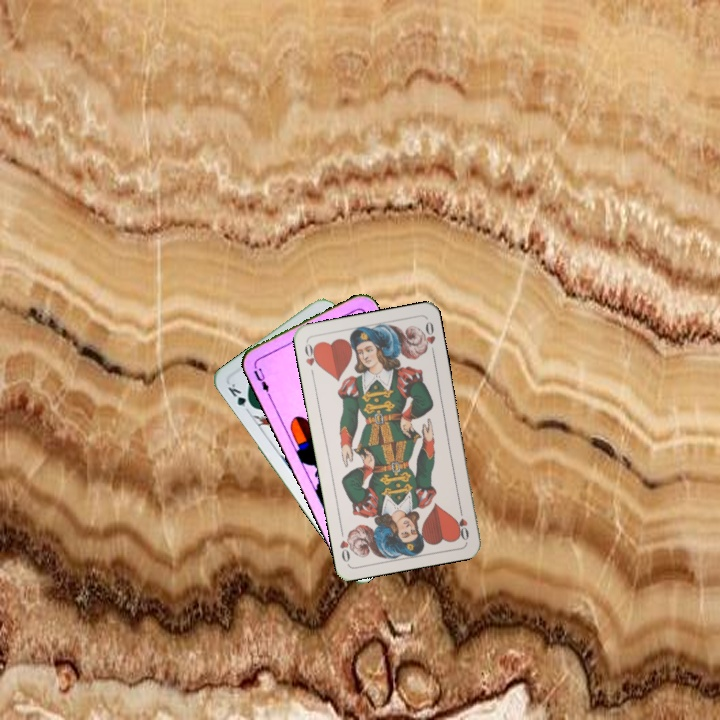EU: (250, 360, 273, 398)
GK: (223, 379, 256, 411)
HO: (301, 339, 322, 379), (453, 502, 472, 543)
